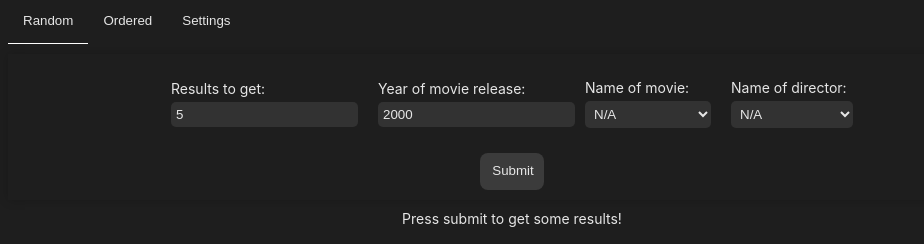
Test case: Random Wow Search › As a user, I should get no quotes when the API endpoint cannot be found
This screenshot has width=924, height=244.
expect the label "Press submit to get some results!" is shown: met, box [402,210,622,227]
Click the button with id "submit-button" at (512, 172), box [480,153,544,190]
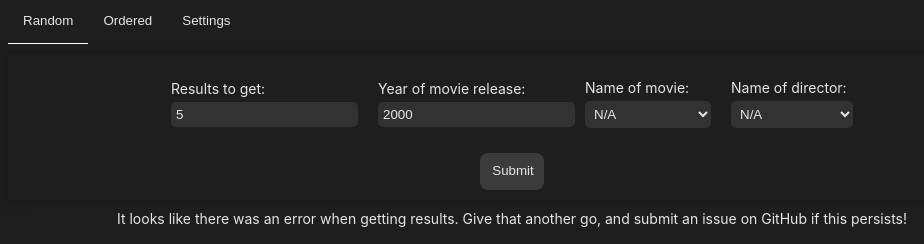
expect the 5th label shows "It looks like there was an error when getting results. Give that another go, and submit an issue on GitHub if this persists!": met, box [117,210,907,227]
